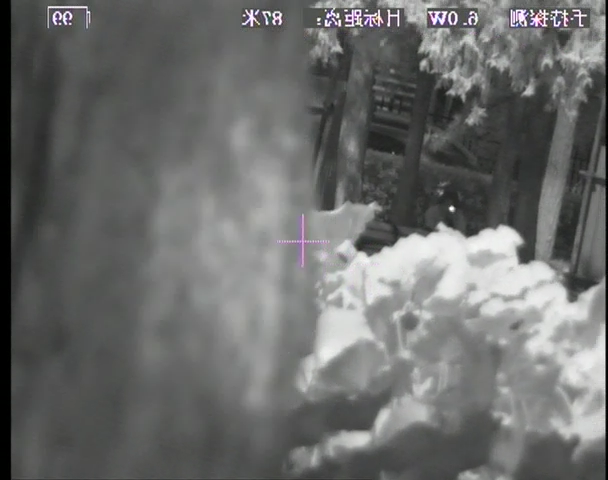my: (448, 204, 457, 215)
